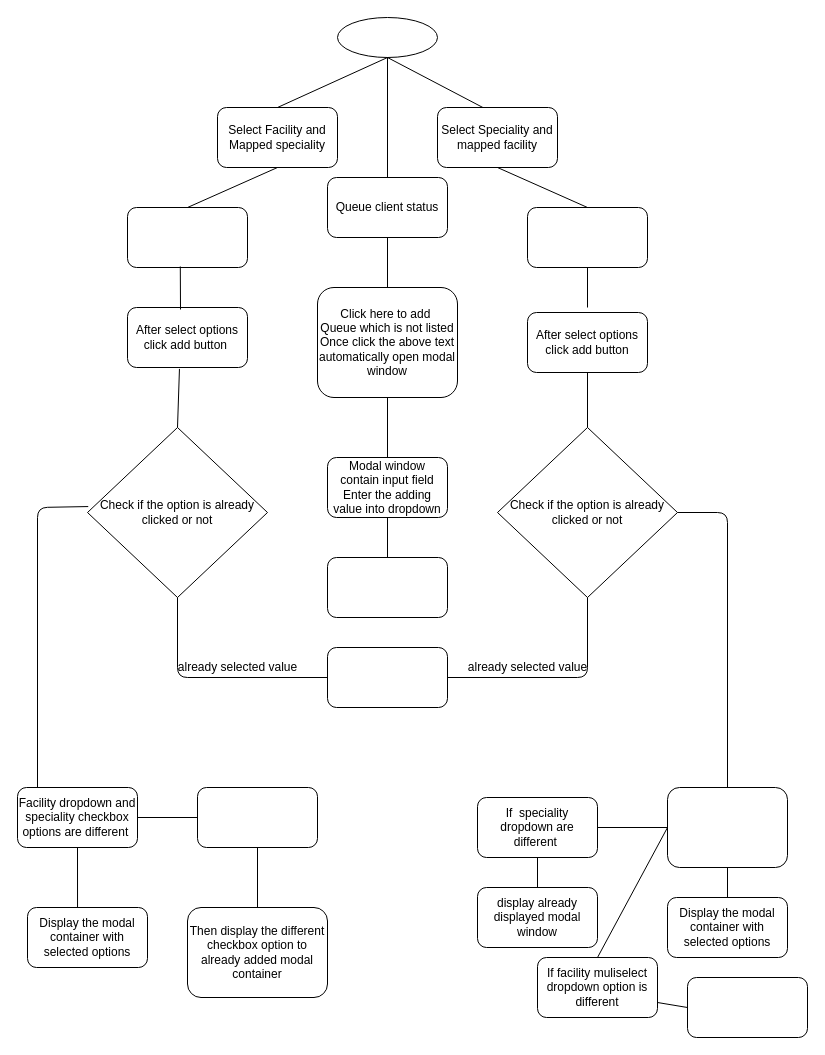
This 825x1055 diagram has some shape labels left out. The shapes that lost their labels are listed below. From the top down, each one's centre as x and y in pixels, then its label:
the point at 387,37: Start
the point at 187,237: Select the options contain in facility and mapped speciality
the point at 587,237: Select the options contain in speciality and mapped facility
the point at 387,587: The entered value added to drop down
the point at 387,677: Show error message
the point at 257,817: If dropdown option is already selected but checkbox option is different
the point at 727,827: If serviceline,speciality and facility options are different
the point at 747,1007: Display the modal container window with selected options
